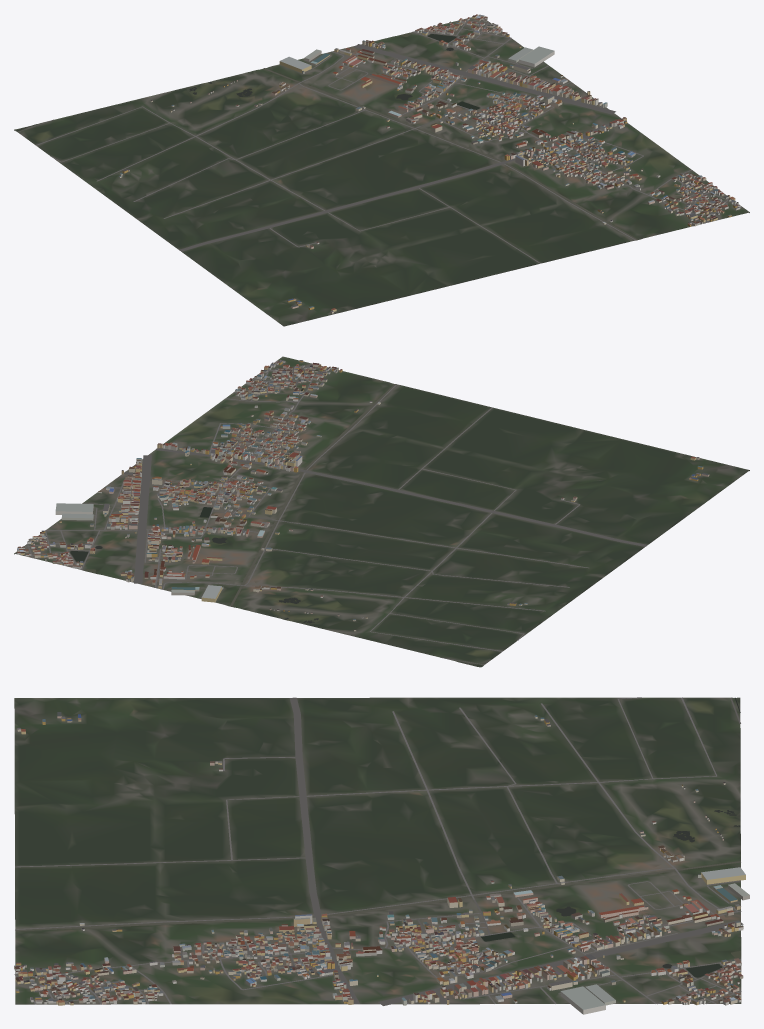
3 renders of one model, top to bottom at view 1: azimuth 30°, elevation 25°; view 2: azimuth 150°, elevation 25°; view 3: azimuth 270°, elevation 25°, orthographic. The views are drawn at different scales.
Parts seen in each view (by area): view 1: ground, buildings, roads, water; view 2: ground, buildings, roads, water; view 3: ground, buildings, roads, water.
Boxes of the visible parts, x1,y1,x2,y2 form: ground: (14,17,749,326); buildings: (119,14,740,313); roads: (18,20,741,263); water: (16,32,637,240); ground: (14,356,749,667); buildings: (17,360,709,631); roads: (24,366,647,664); water: (70,384,482,666); ground: (14,697,741,1004); buildings: (14,712,749,1014); roads: (14,697,743,1005); water: (15,697,740,977).
Size of the model in its own units: 1452 by 22.22 by 1421.
